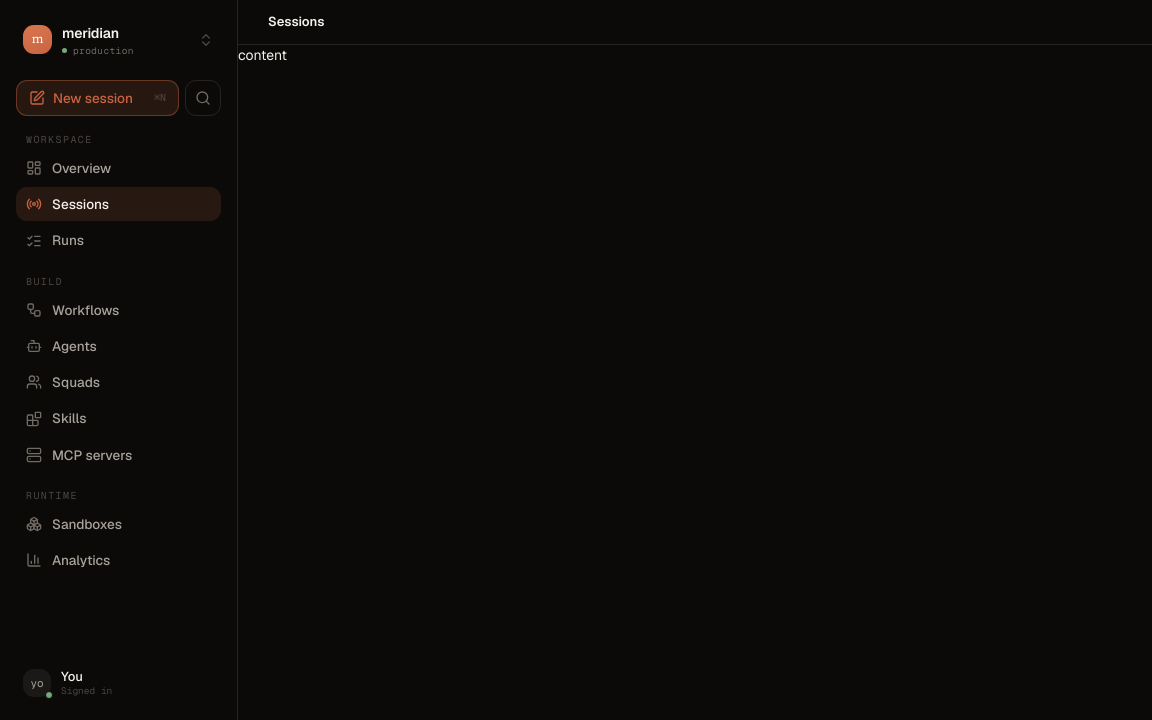
AppShell › opens the command palette from the sidebar search button
Click the button named "search — open the command menu". click: (203, 98)
box: [185, 80, 221, 116]
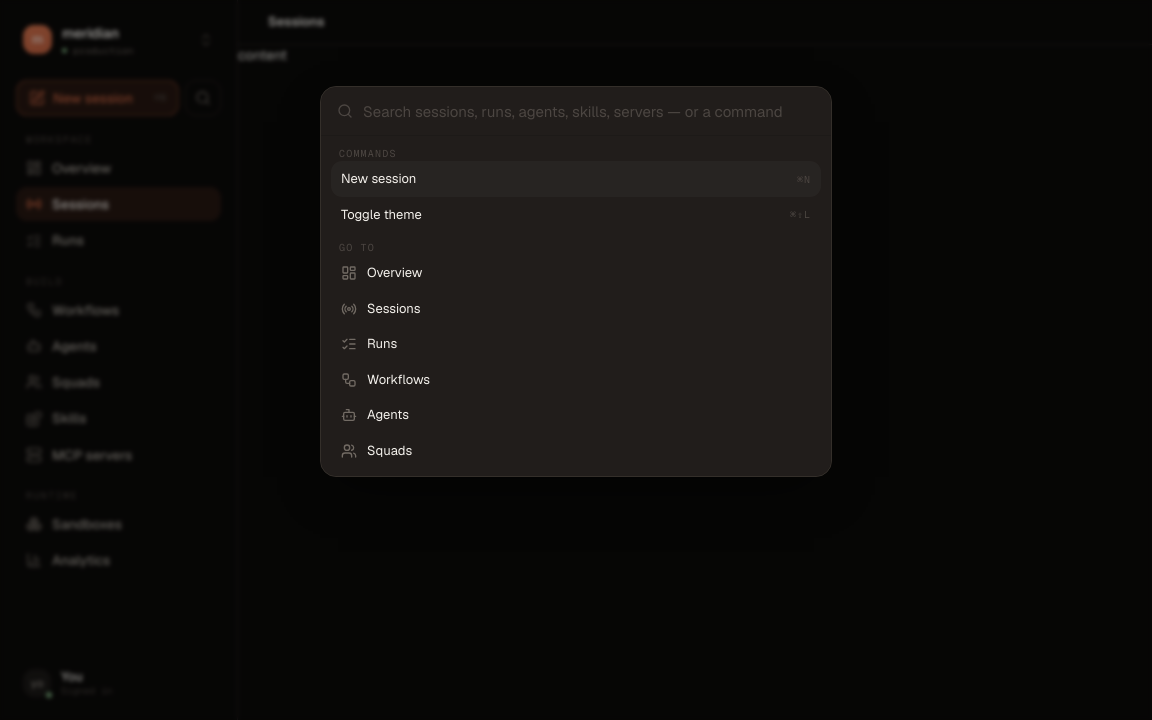
Result: the dropdown is shown at [363, 87, 815, 135]
